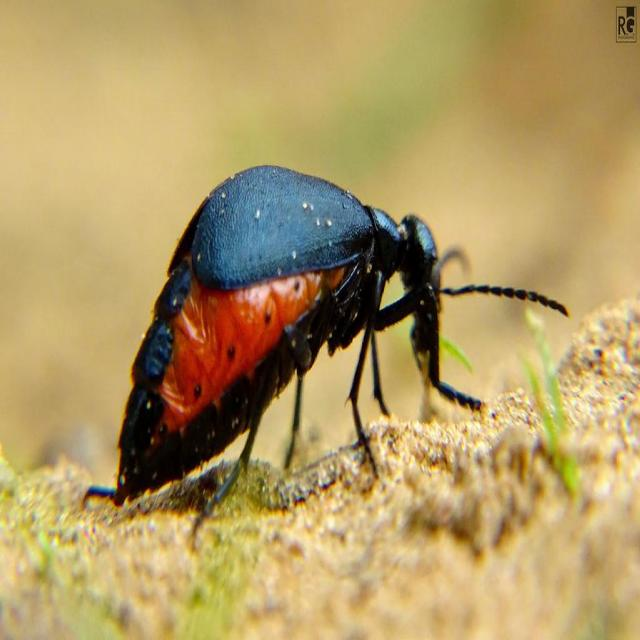BlisterBeetle-Adult-: (83, 157, 558, 550)
